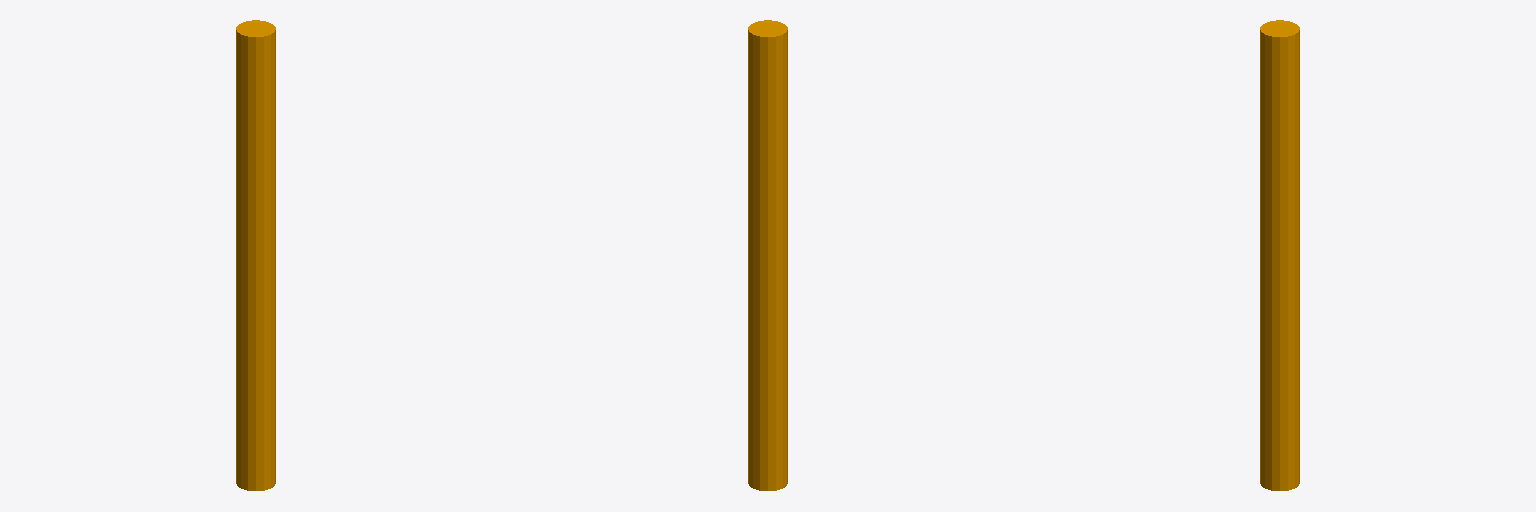
The robot description file, URDF, robot "wheel_stick":
<?xml version="1.0"?>
<robot name="wheel_stick">
    <link name="wheel_stick">
        <visual>
            <geometry>
                <mesh filename="../mesh/wheel/wheel_stick.obj" scale="1 1 1"/>
            </geometry>
        </visual>
        <collision>
            <geometry>
                <mesh filename="../mesh/wheel/wheel_stick.obj" scale="1 1 1"/>
            </geometry>
            <sdf resolution="512"/>
        </collision>
    </link>
</robot>

--- Render facts (derived) ---
3 views of the same robot in one strip: view 1: azimuth 30°, elevation 25°; view 2: azimuth 150°, elevation 25°; view 3: azimuth 270°, elevation 25° (orthographic).
Model wheel_stick with 1 links and 0 joints (none), rooted at wheel_stick, posed every joint at zero.
Visible links, largest first — view 1: wheel_stick; view 2: wheel_stick; view 3: wheel_stick.
Link boxes in pixels (bbox=[...]): wheel_stick: bbox=[236, 20, 275, 490]; wheel_stick: bbox=[748, 20, 787, 490]; wheel_stick: bbox=[1260, 20, 1299, 490].
Size in the robot's own frame: 0.0271 by 0.0272 by 0.3419 metres.
Meshes: 1 distinct files referenced, 1 mesh visuals loaded (1 OBJ).